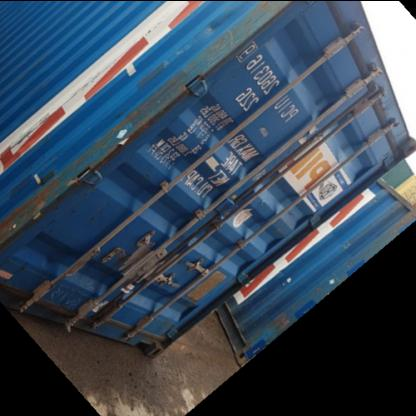Damage: (3, 138, 124, 247), (116, 58, 210, 136), (200, 1, 294, 65), (42, 280, 102, 318)
